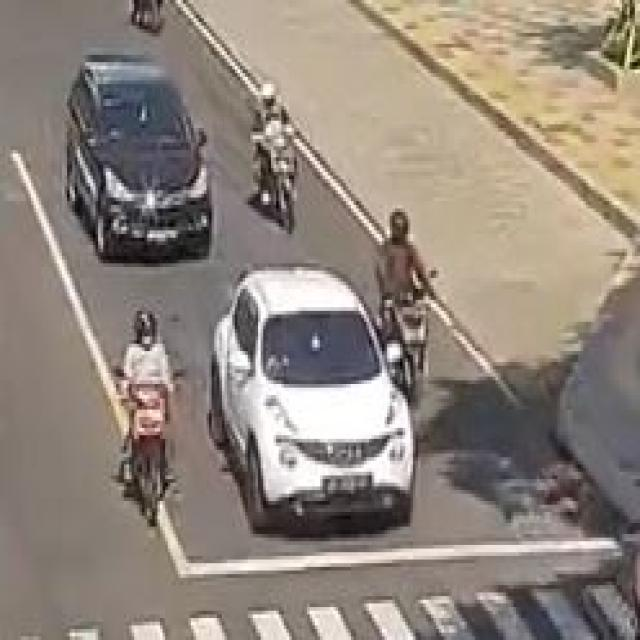car: (211, 256, 434, 522), (56, 53, 230, 271)
motorbike: (107, 299, 184, 540), (248, 76, 322, 261), (380, 218, 447, 394)
